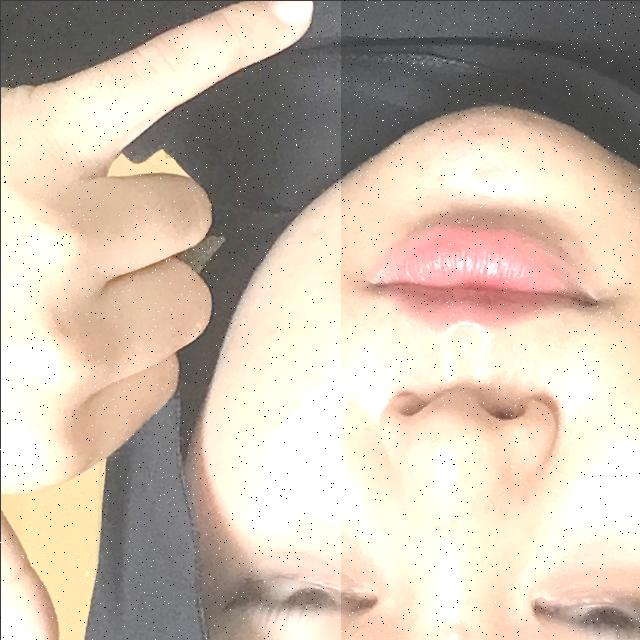telpon: (0, 0, 340, 640)
